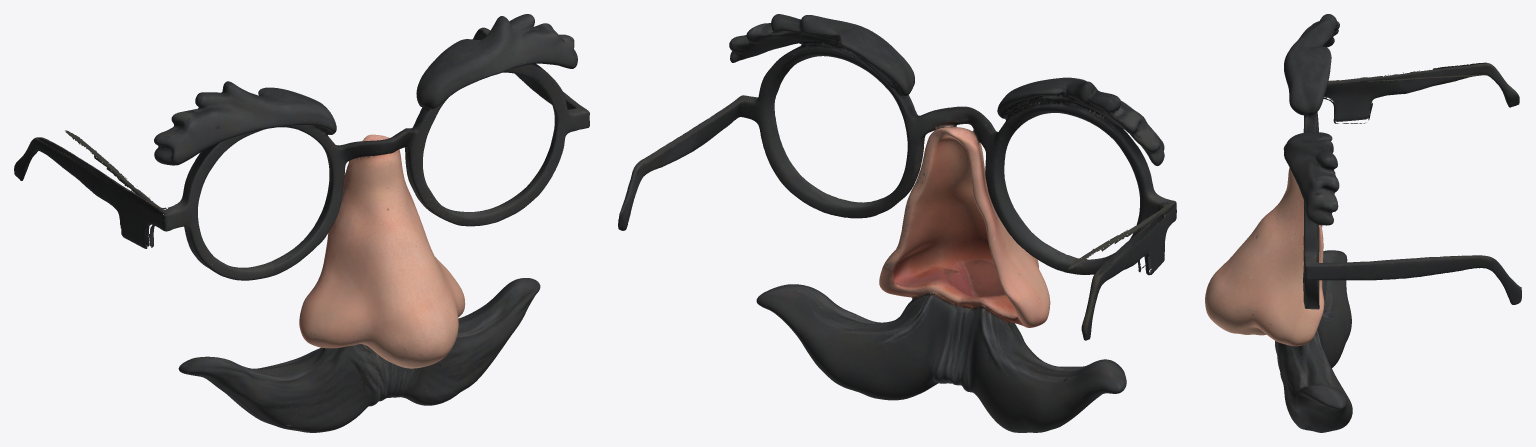
File: Groucho_disguise.glb
The picture shows the model from 3 angles, left to right: view 1: azimuth 30°, elevation 25°; view 2: azimuth 150°, elevation 25°; view 3: azimuth 270°, elevation 25°; orthographic projection. The views are drawn at different scales.
Bounding box in the file's own units: 2.15 × 1.62 × 1.45.
Materials: 1 (1 with a texture image).
